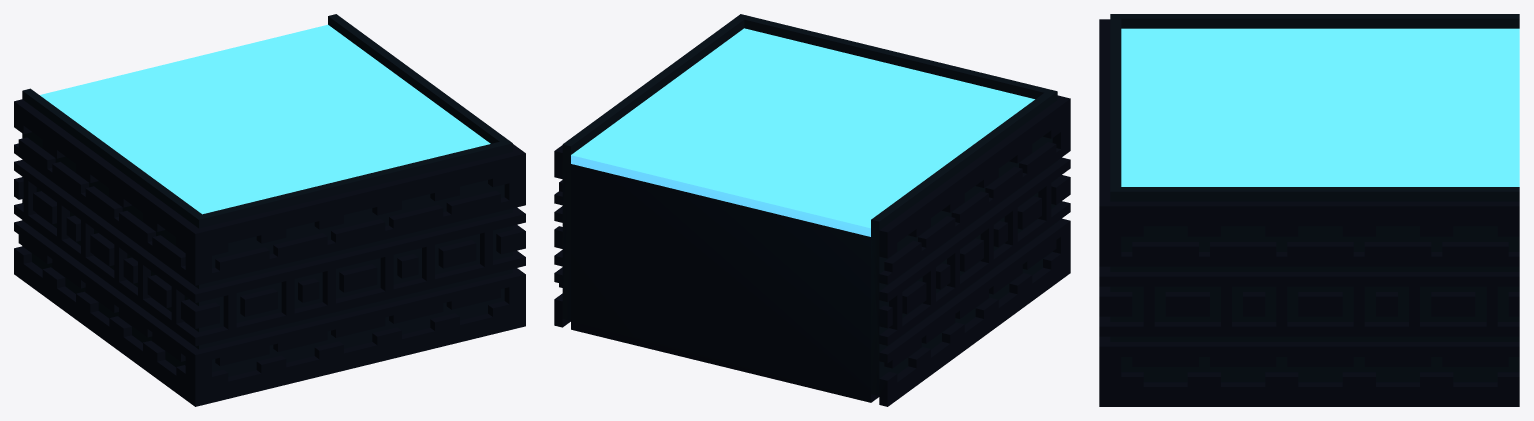
File: Block_Base_End.glb
3 renders of one model, left to right at view 1: azimuth 30°, elevation 25°; view 2: azimuth 150°, elevation 25°; view 3: azimuth 270°, elevation 25°, orthographic. The views are drawn at different scales.
Parts seen in each view (by area): view 1: Block_Base_End; view 2: Block_Base_End; view 3: Block_Base_End.
Boxes of the visible parts, x1,y1,x2,y2 form: Block_Base_End: (14,14,525,406); Block_Base_End: (554,14,1070,406); Block_Base_End: (1099,14,1519,406).
Bounding box in the file's own units: 1 × 0.525 × 0.95.
